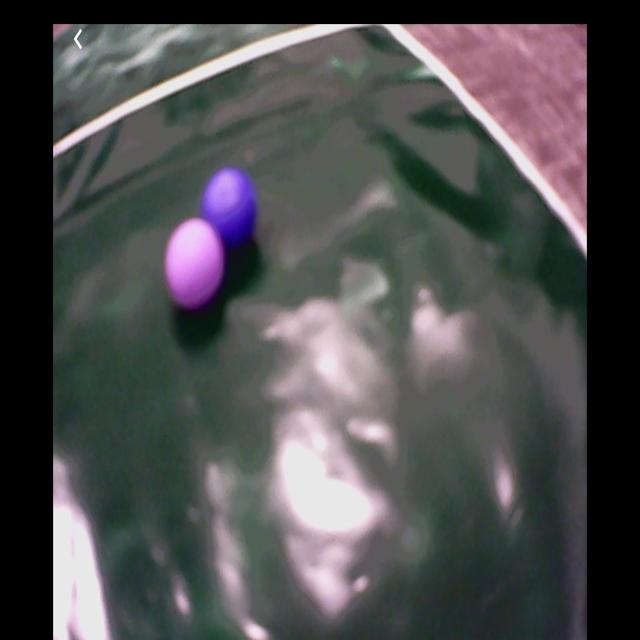ball: (165, 221, 225, 308), (204, 168, 258, 258)
